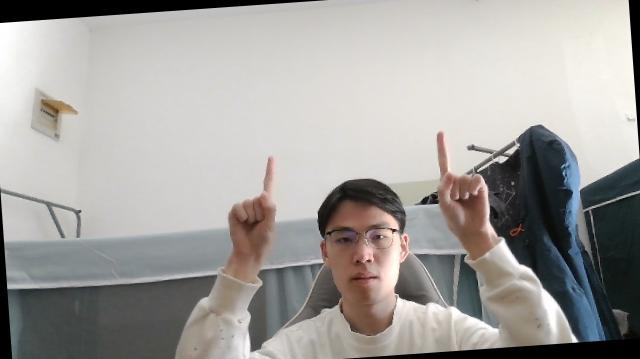one: (434, 124, 492, 234), (222, 151, 282, 256)
